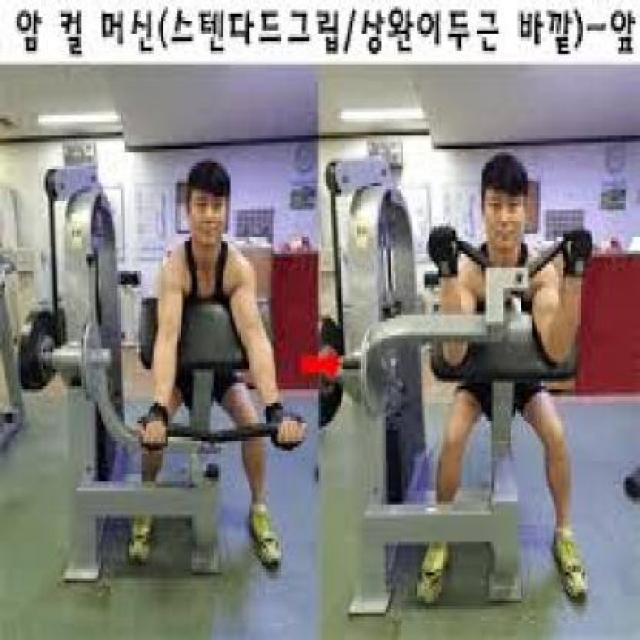arm curl machine: (328, 223, 592, 622), (20, 292, 308, 586)
